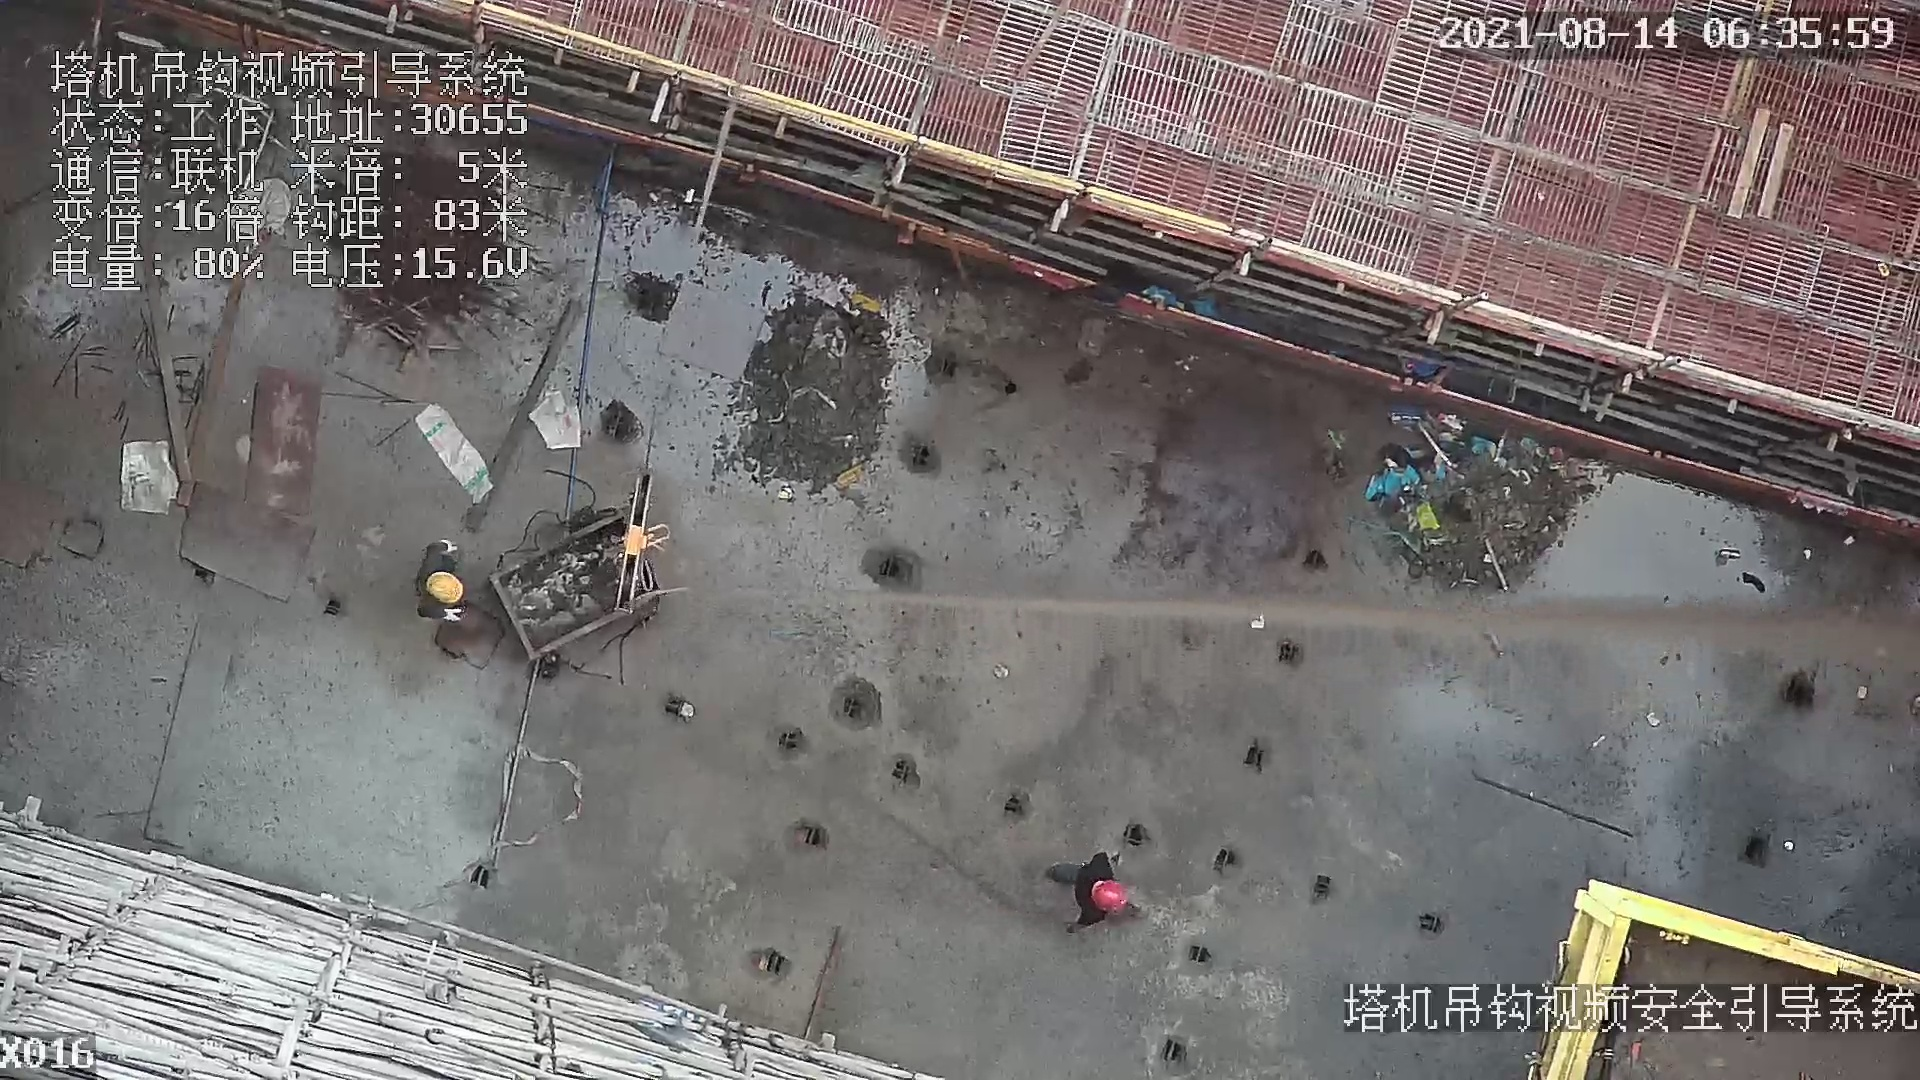helmet: (426, 567, 464, 609), (1092, 880, 1133, 918)
hook: (613, 467, 669, 610)
hopper: (481, 504, 688, 694)
person: (1045, 847, 1142, 935), (406, 536, 479, 627)
